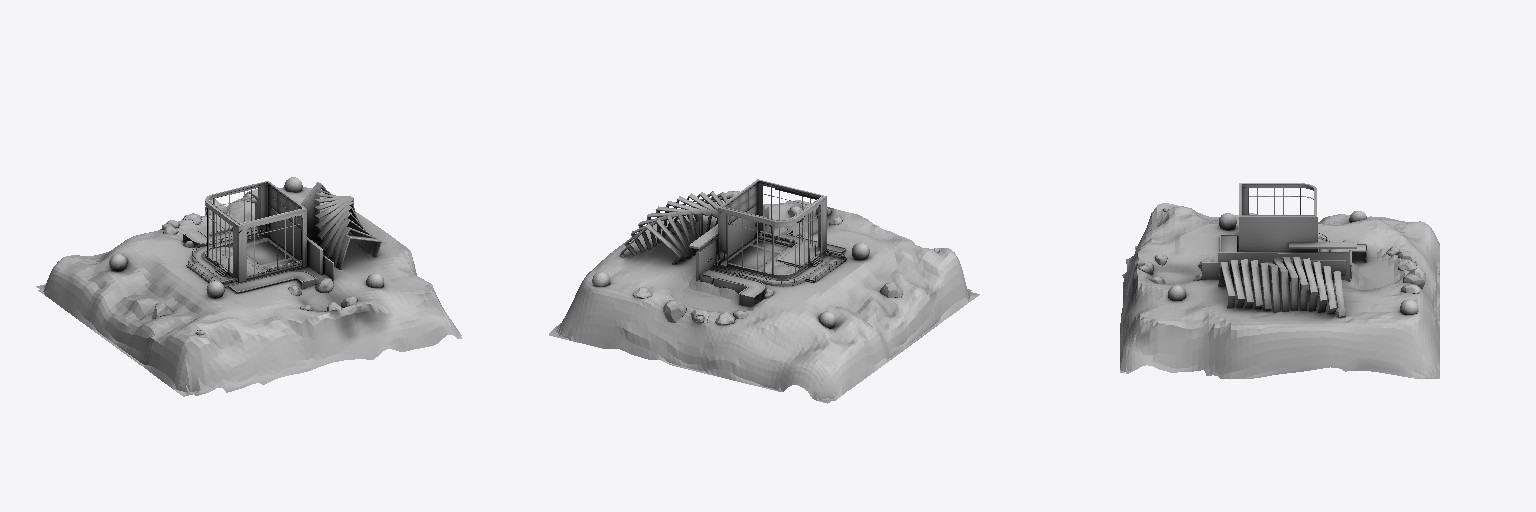
3 views of the same model, side by side, from view 1: azimuth 30°, elevation 25°; view 2: azimuth 150°, elevation 25°; view 3: azimuth 270°, elevation 25° (orthographic).
Parts seen in each view (by area): view 1: sdk.000_Combined_Mesh_(root:_scene).021; view 2: sdk.000_Combined_Mesh_(root:_scene).021; view 3: sdk.000_Combined_Mesh_(root:_scene).021.
Boxes of the visible parts, box(x1,y1,x2,y2) form: sdk.000_Combined_Mesh_(root:_scene).021: box(36, 177, 461, 396); sdk.000_Combined_Mesh_(root:_scene).021: box(549, 179, 979, 403); sdk.000_Combined_Mesh_(root:_scene).021: box(1120, 183, 1439, 378).
Size of the model in its own units: 60.66 by 22.31 by 59.02.
Materials: 1 (1 with a texture image).